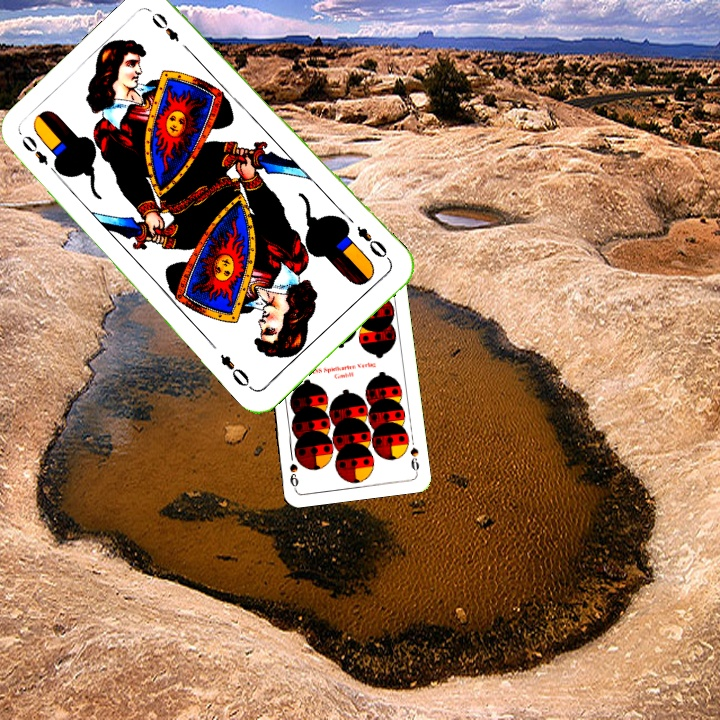EO: (17, 131, 61, 178), (352, 222, 394, 264)
S9: (406, 443, 422, 476)
